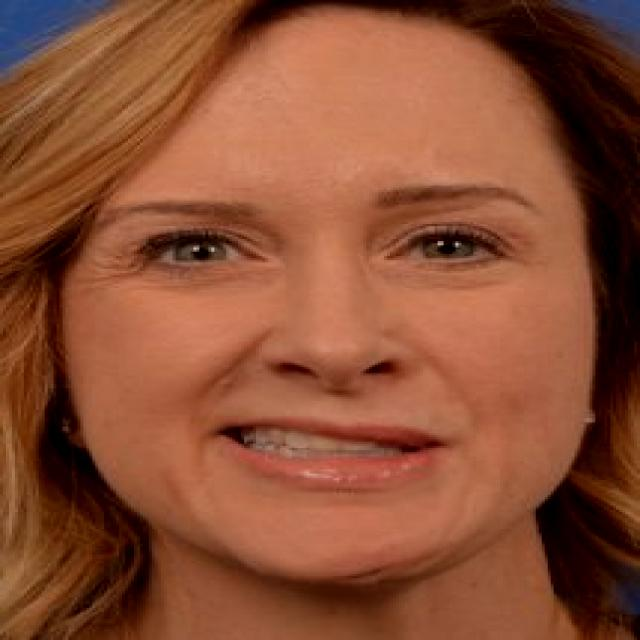stroke_face: (60, 5, 617, 584)
